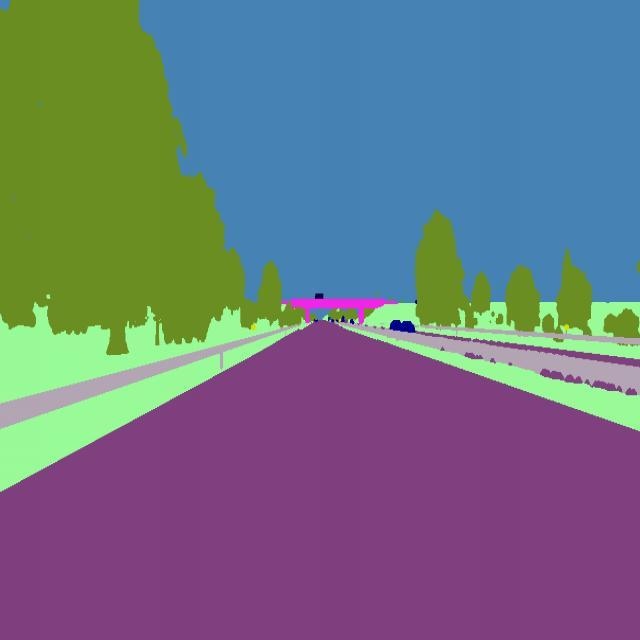safe: (400, 320, 418, 338), (388, 314, 402, 336)
